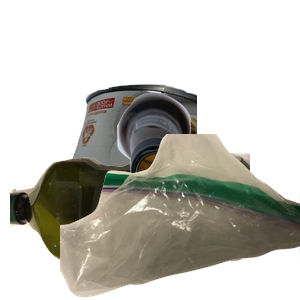glass: (115, 90, 300, 270)
metal: (60, 82, 300, 262)
plastic: (10, 149, 250, 300)
trash: (60, 134, 300, 300)
